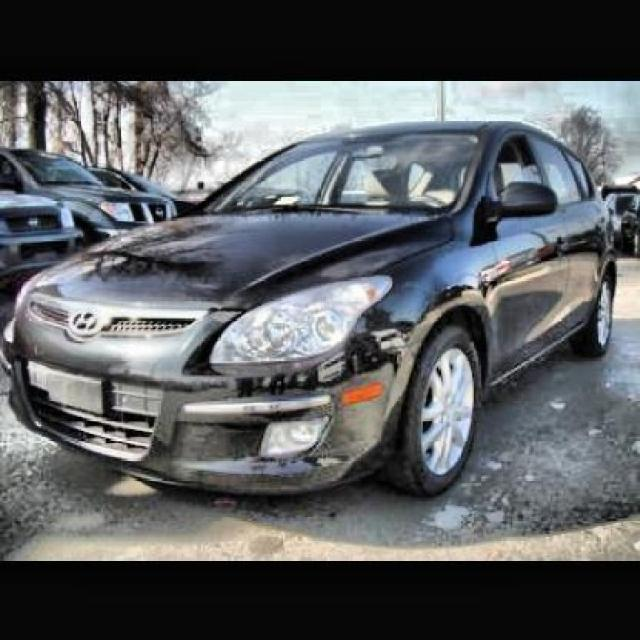black: (3, 120, 618, 496)
